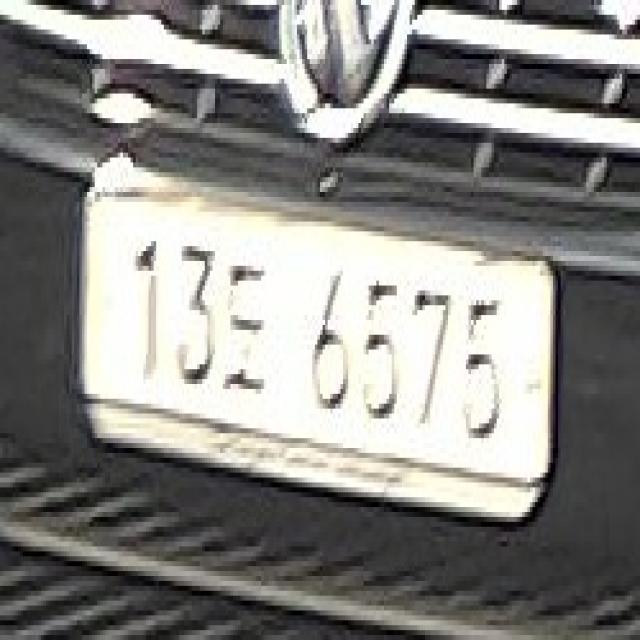1: (128, 216, 172, 394)
3: (174, 226, 223, 414)
5: (461, 276, 517, 448), (353, 261, 407, 433)
6: (307, 261, 351, 423)
7: (407, 271, 461, 433)
do: (218, 246, 274, 414)
license_plate: (72, 168, 560, 536)
